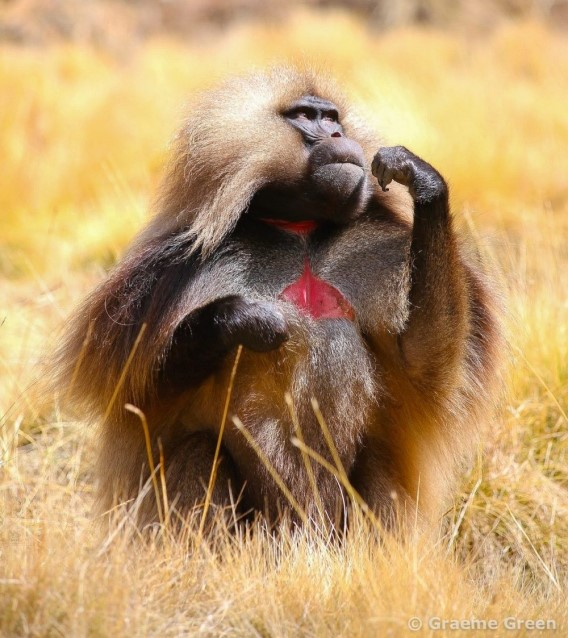Gelada: (138, 79, 475, 538)
